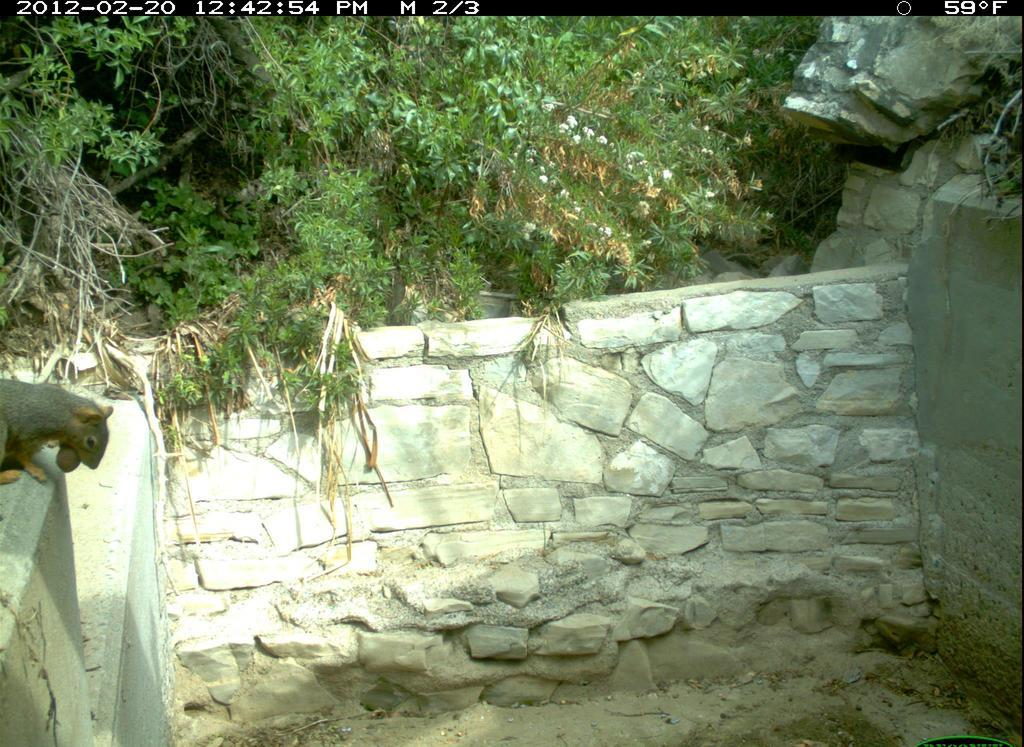squirrel: (2, 377, 116, 500)
